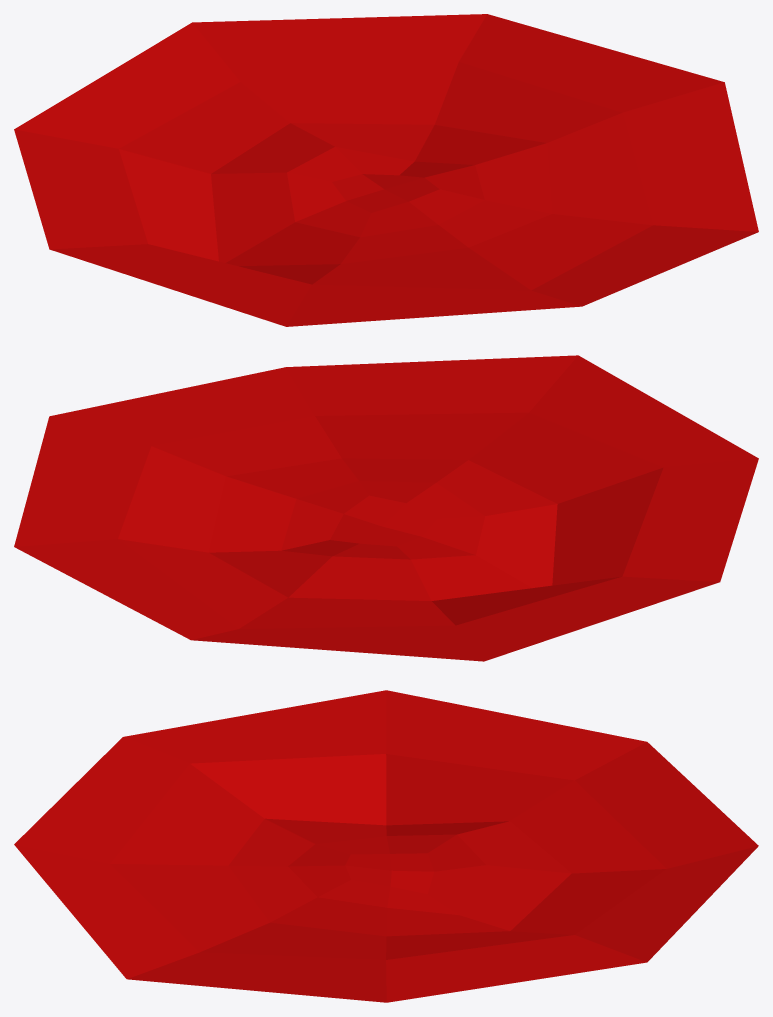
File: Mug_Wine.fbx
The picture shows the model from 3 angles, top to bottom: view 1: azimuth 30°, elevation 25°; view 2: azimuth 150°, elevation 25°; view 3: azimuth 270°, elevation 25°; orthographic projection. The views are drawn at different scales.
Parts seen in each view (by area): view 1: Mug_Liquid_Wine; view 2: Mug_Liquid_Wine; view 3: Mug_Liquid_Wine.
Part boxes in pixels (x1,y1,x2,y2): Mug_Liquid_Wine: (14,14,758,326); Mug_Liquid_Wine: (14,355,758,661); Mug_Liquid_Wine: (14,690,758,1002).
Bounding box in the file's own units: 168 × 14.7 × 168.
